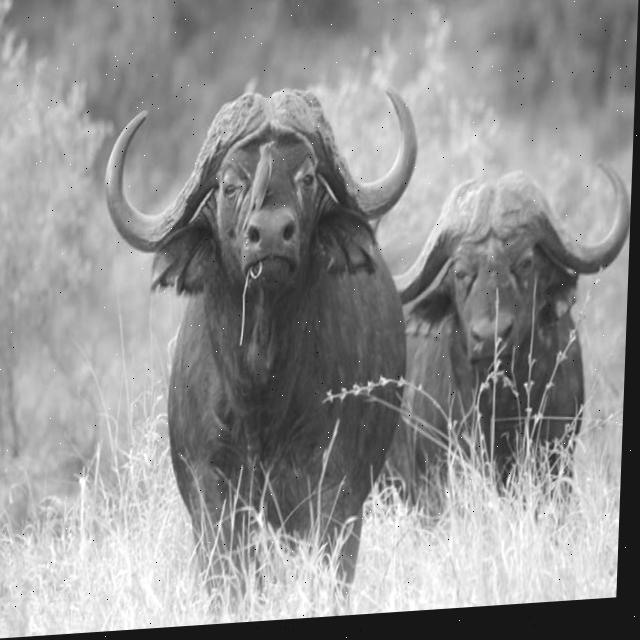Buffalo: (90, 77, 422, 623), (355, 154, 631, 558)
